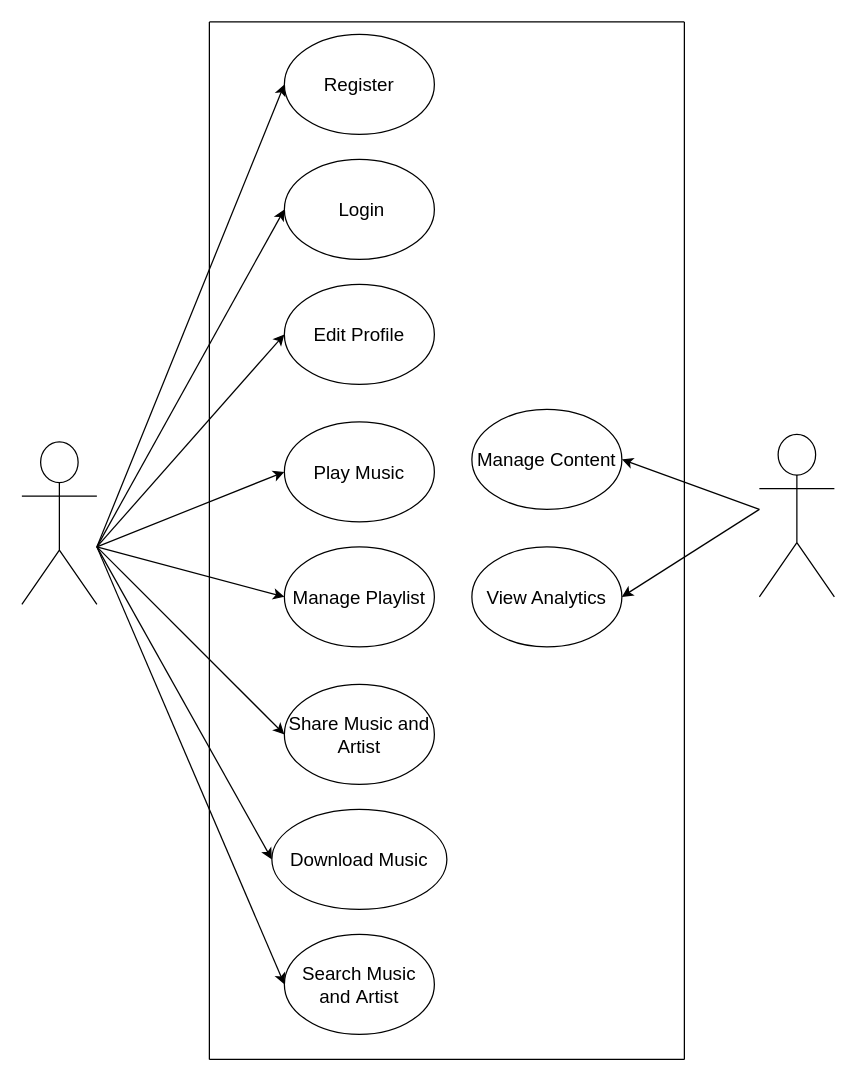
Some shapes in this 856 by 1083 pixel diagram are drawn without their labels. Each missing label, with the box of its shape:
Admin: (758, 433, 834, 597)
User: (21, 441, 97, 604)
